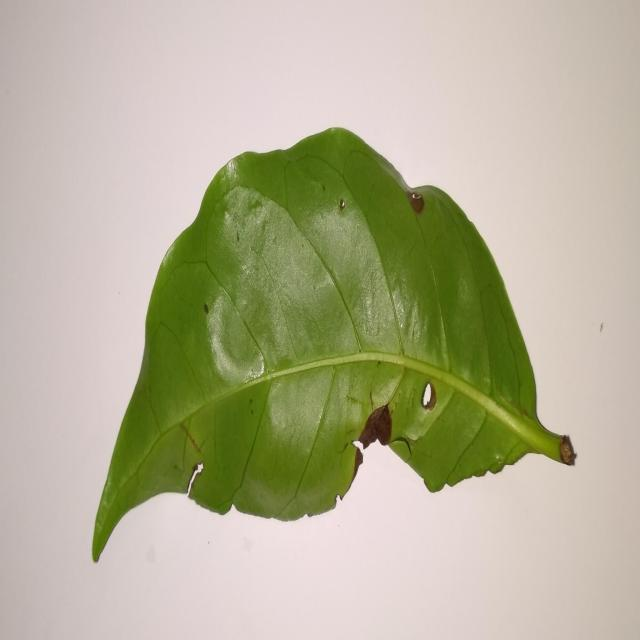Enfermedad-Antracnosis: (89, 128, 577, 564)
